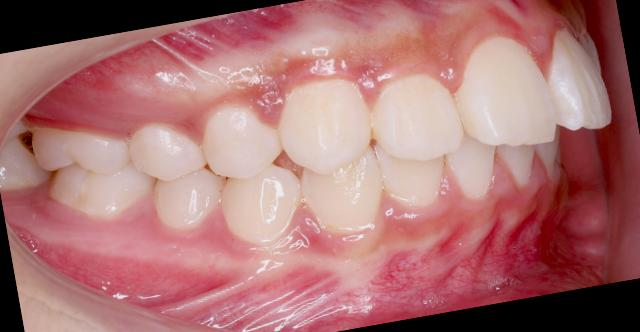canine class II 1/4: (198, 61, 395, 266)
molar class II 1/2: (21, 100, 159, 236)
